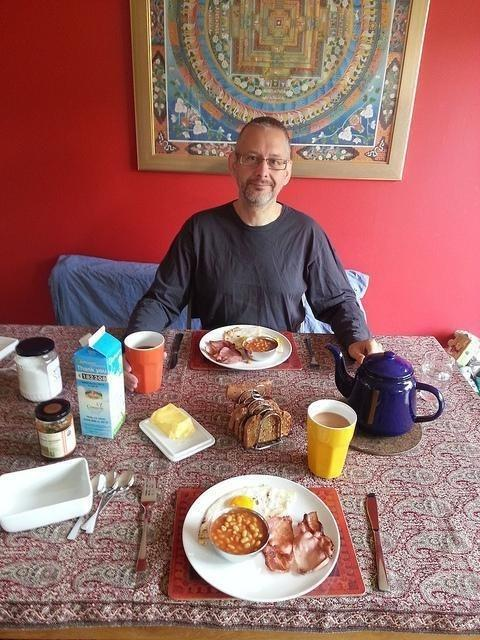cup-disposable: (306, 398, 359, 480), (123, 330, 164, 395)
